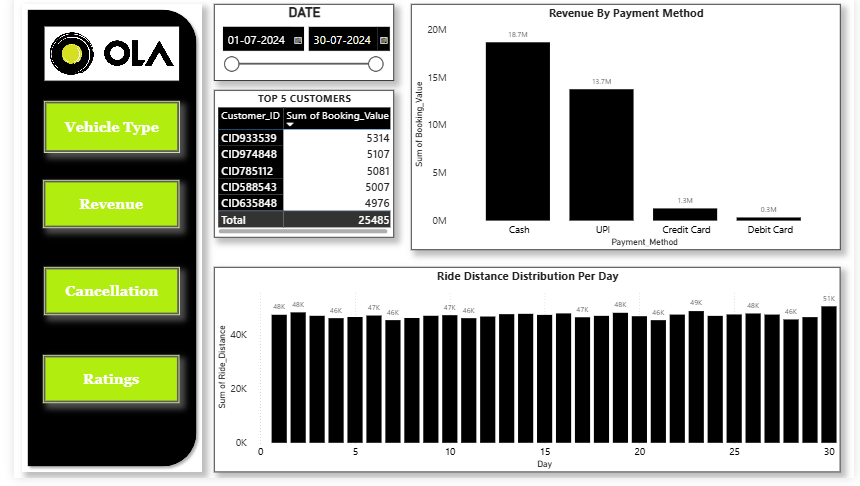

The dashboard page shown, as its layout file describes it:
{"tool":"powerbi","page":{"name":"Revenue","canvas":[1280,720],"ordinal":3},"visuals":[{"type":"columnChart","title":"Revenue by Payment Method","fields":{"Y":["Sum(Bengaluru_Ola_Booking_Data.Booking Value)"],"Category":["Bengaluru_Ola_Booking_Data.Payment Method"]},"box":[329.8,18.7,663.8,383],"z":0},{"type":"columnChart","title":"Ride by Day Distribution","fields":{"Y":["Sum(Bengaluru_Ola_Booking_Data.Ride Distance)"],"Category":["Bengaluru_Ola_Booking_Data.Date"]},"box":[329.8,416.2,943.2,303.8],"z":1000},{"type":"slicer","title":"Date","fields":{"Values":["Bengaluru_Ola_Booking_Data.Date"]},"box":[1003.7,18.7,269.3,181.4],"z":2000},{"type":"tableEx","title":"Top 5 Customer","fields":{"Values":["Bengaluru_Ola_Booking_Data.Customer ID","Sum(Bengaluru_Ola_Booking_Data.Booking Value)"]},"box":[1002.2,210.2,270.7,191.5],"z":3000}]}

Visuals, with their boxes in screenshot pixels (x1, y1, x2, y2), scaled from the page's 1280x720 canvas onto the 860x486 screenshot:
"Revenue by Payment Method" columnChart: 222/13/668/271
"Ride by Day Distribution" columnChart: 222/281/855/485
"Date" slicer: 674/13/855/135
"Top 5 Customer" tableEx: 673/142/855/271
